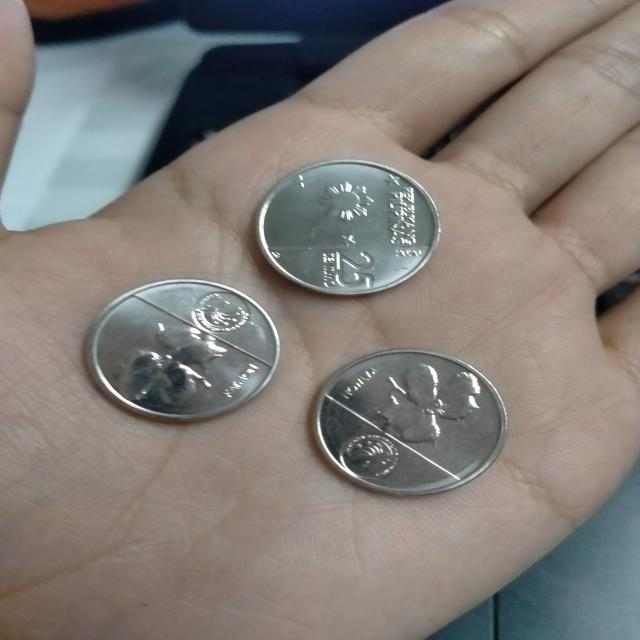25Cent_New_Back: (331, 361, 481, 483), (122, 286, 253, 414)
25Cent_New_Front: (315, 169, 431, 288)
